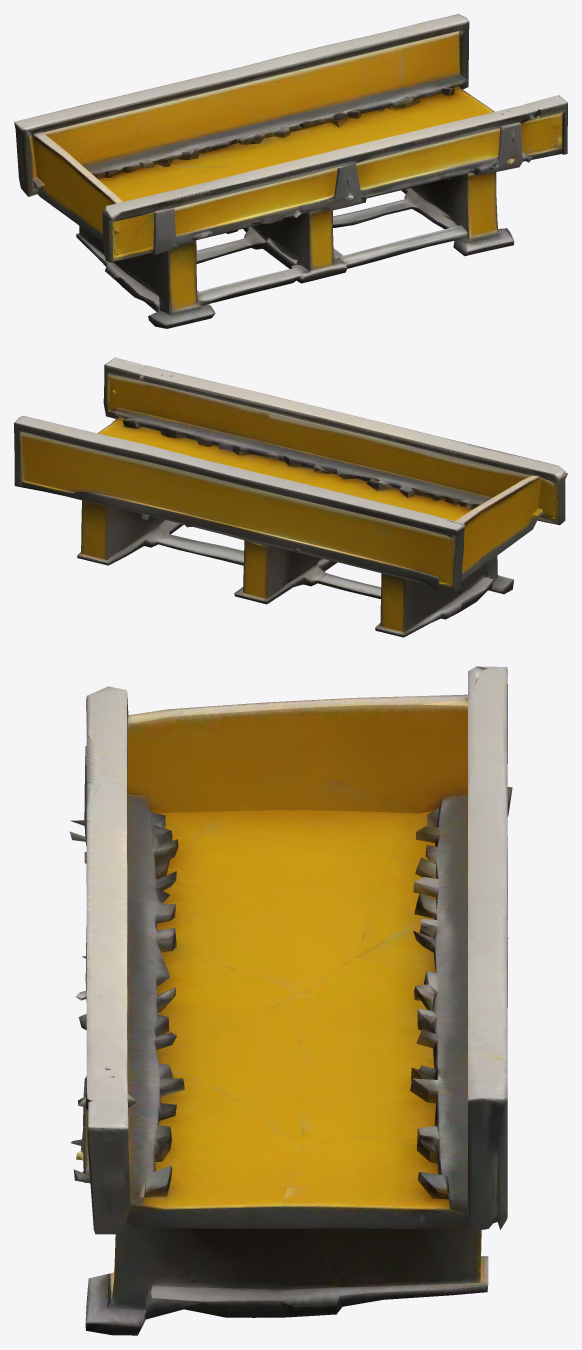
File: m2Conveyor.glb
3 views of the same model, one above another, from view 1: azimuth 30°, elevation 25°; view 2: azimuth 150°, elevation 25°; view 3: azimuth 270°, elevation 25° (orthographic). The views are drawn at different scales.
Parts seen in each view (by area): view 1: model; view 2: model; view 3: model.
Boxes of the visible parts, <box> form: model: <box>14,14,567,328</box>; model: <box>14,357,567,637</box>; model: <box>69,666,512,1335</box>.
Bounding box in the file's own units: 1.9 × 0.5682 × 0.8016.
Materials: 1 (1 with a texture image).
